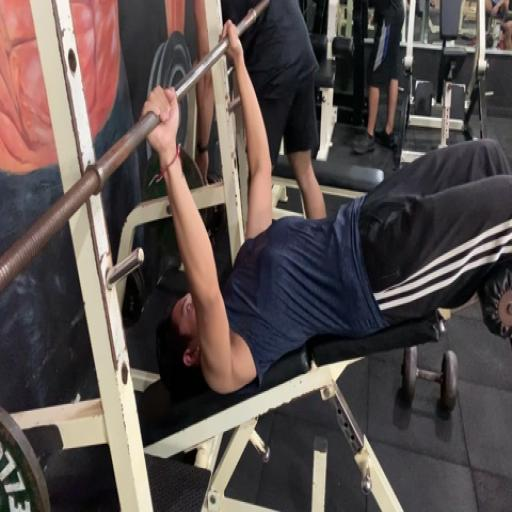exercise: (138, 22, 511, 402)
